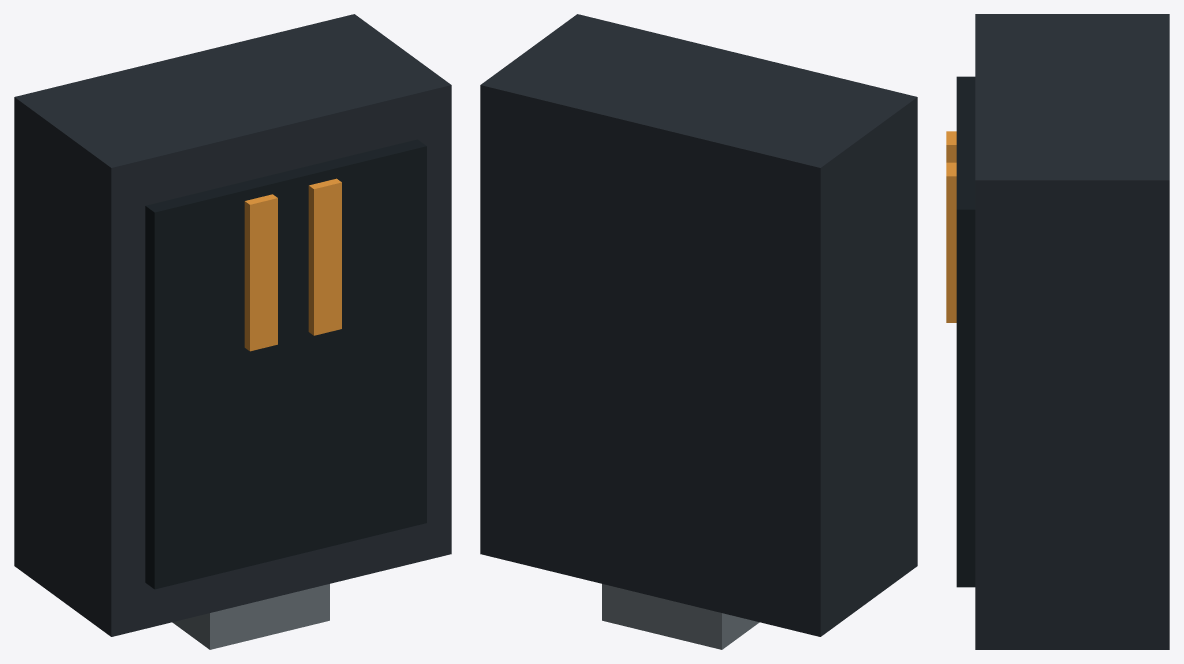
Rendered from reinforced_battery_pack.glb.
The picture shows the model from 3 angles, left to right: view 1: azimuth 30°, elevation 25°; view 2: azimuth 150°, elevation 25°; view 3: azimuth 270°, elevation 25°; orthographic projection.
Visible parts, largest first — view 1: Cartridge, CartridgeFace, LockTab, CapacityStripe, CapacityStripe.001; view 2: Cartridge, LockTab; view 3: Cartridge, CartridgeFace, CapacityStripe.001, CapacityStripe.
Part boxes in pixels (x1,y1,x2,y2): Cartridge: (14,14,451,636); CartridgeFace: (145,139,426,589); LockTab: (172,584,329,649); CapacityStripe: (244,194,277,351); CapacityStripe.001: (308,178,341,335); Cartridge: (480,14,917,636); LockTab: (602,584,759,649); Cartridge: (975,14,1169,649); CartridgeFace: (956,76,975,587); CapacityStripe.001: (946,162,956,322); CapacityStripe: (946,131,956,162).
Bounding box in the file's own units: 0.85 × 1.24 × 0.4825.
